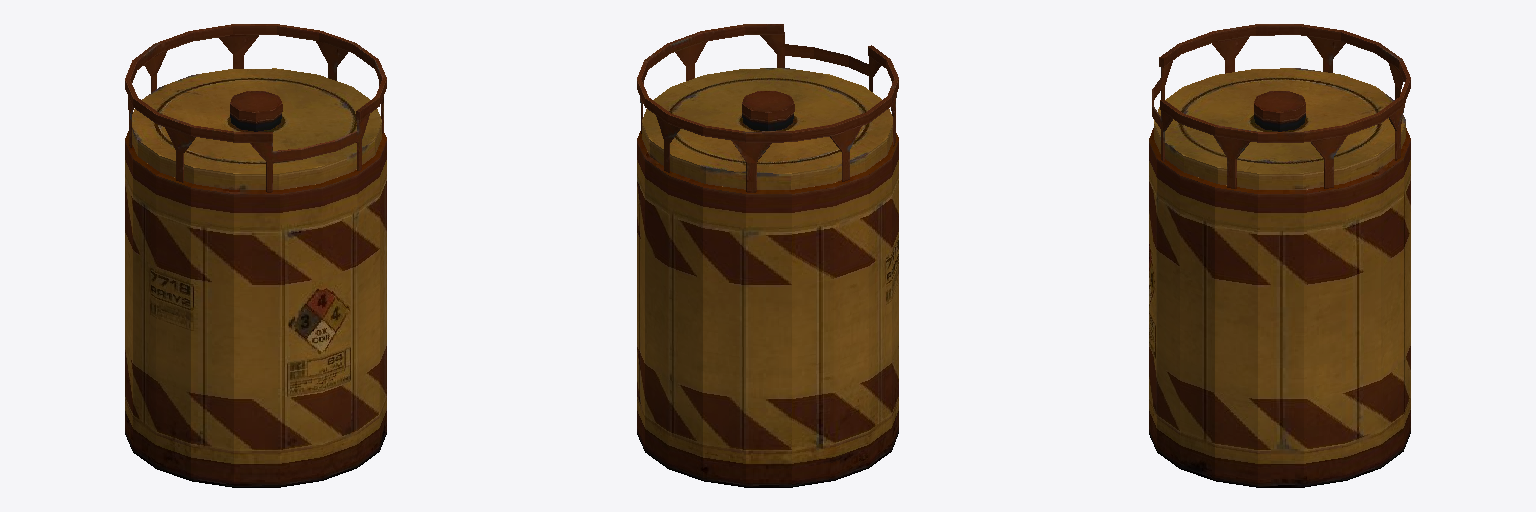
3 views of the same model, side by side, from view 1: azimuth 30°, elevation 25°; view 2: azimuth 150°, elevation 25°; view 3: azimuth 270°, elevation 25° (orthographic).
Parts seen in each view (by area): view 1: Barrel_02; view 2: Barrel_02; view 3: Barrel_02.
Boxes of the visible parts, x1,y1,x2,y2 form: Barrel_02: [125, 24, 386, 487]; Barrel_02: [637, 24, 898, 487]; Barrel_02: [1149, 24, 1410, 487].
Bounding box in the file's own units: 1.18 × 1.78 × 1.19.
Materials: 1 (1 with a texture image).